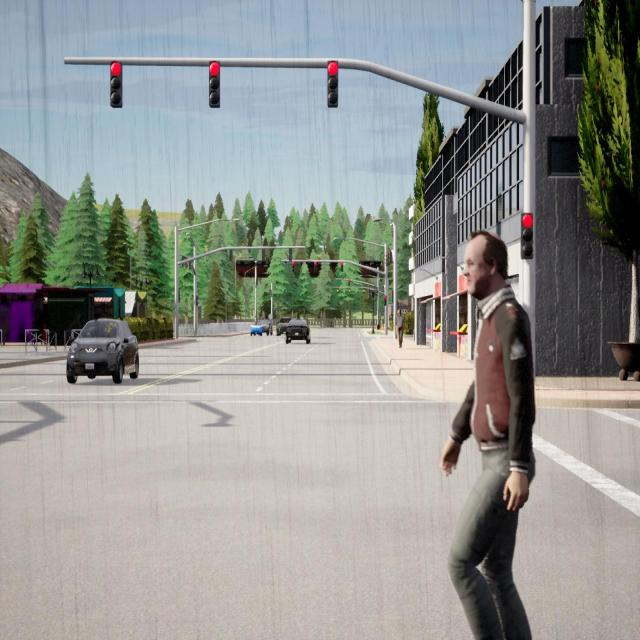Pedestrian: (440, 231, 535, 638), (395, 308, 405, 348)
Traffic_Signs: (268, 314, 272, 319)
Vehicle: (66, 319, 139, 384), (286, 320, 310, 344), (276, 318, 290, 337), (258, 319, 272, 336), (250, 322, 262, 336)
traffic_light: (110, 61, 122, 107), (521, 213, 533, 259), (209, 61, 220, 108), (327, 61, 338, 107), (262, 249, 265, 261), (289, 248, 292, 260), (384, 295, 387, 306), (185, 257, 188, 268), (292, 261, 295, 271), (392, 290, 394, 304), (230, 249, 232, 261), (388, 253, 390, 265), (341, 261, 343, 272), (386, 255, 388, 266), (390, 252, 392, 263), (314, 262, 317, 269), (182, 256, 184, 266), (196, 296, 198, 305), (363, 287, 366, 293), (190, 262, 192, 270), (256, 277, 258, 285), (179, 288, 180, 303), (348, 279, 350, 286), (337, 288, 339, 294), (270, 289, 271, 295), (349, 288, 350, 293)
